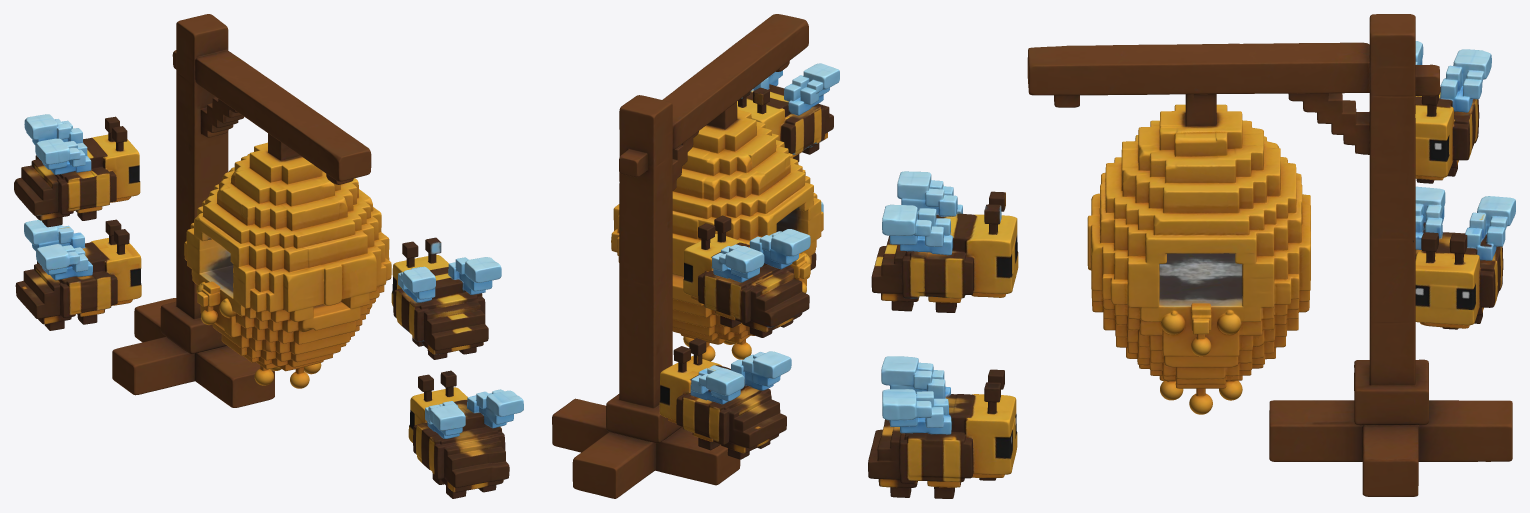
The model's file is beehive.glb.
3 renders of one model, left to right at view 1: azimuth 30°, elevation 25°; view 2: azimuth 150°, elevation 25°; view 3: azimuth 270°, elevation 25°, orthographic. The views are drawn at different scales.
Visible parts, largest first — view 1: tripo_node_29b96f95-694a-47da-83d8-ad9e02f2db08; view 2: tripo_node_29b96f95-694a-47da-83d8-ad9e02f2db08; view 3: tripo_node_29b96f95-694a-47da-83d8-ad9e02f2db08.
Part boxes in pixels (box(x1,y1,x2,y2)): tripo_node_29b96f95-694a-47da-83d8-ad9e02f2db08: box(14, 14, 523, 498); tripo_node_29b96f95-694a-47da-83d8-ad9e02f2db08: box(552, 14, 839, 498); tripo_node_29b96f95-694a-47da-83d8-ad9e02f2db08: box(868, 14, 1515, 498).
Bounding box in the file's own units: 0.6136 × 0.7241 × 1.
Materials: 1 (1 with a texture image).
